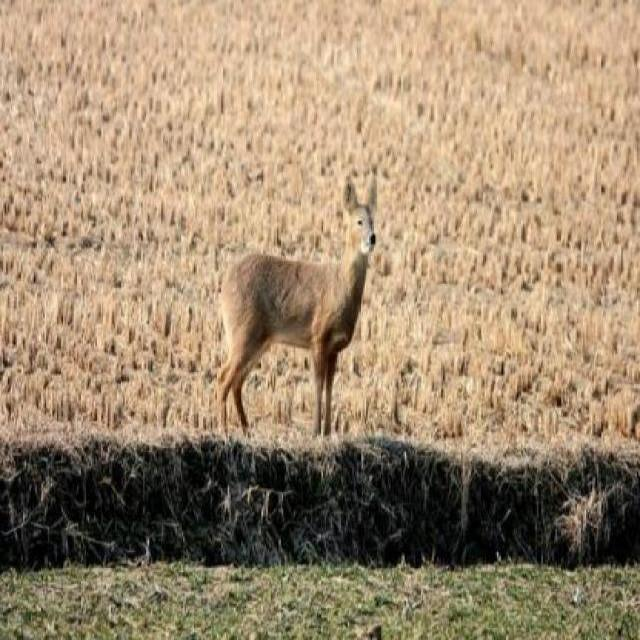deer: (220, 175, 378, 442)
